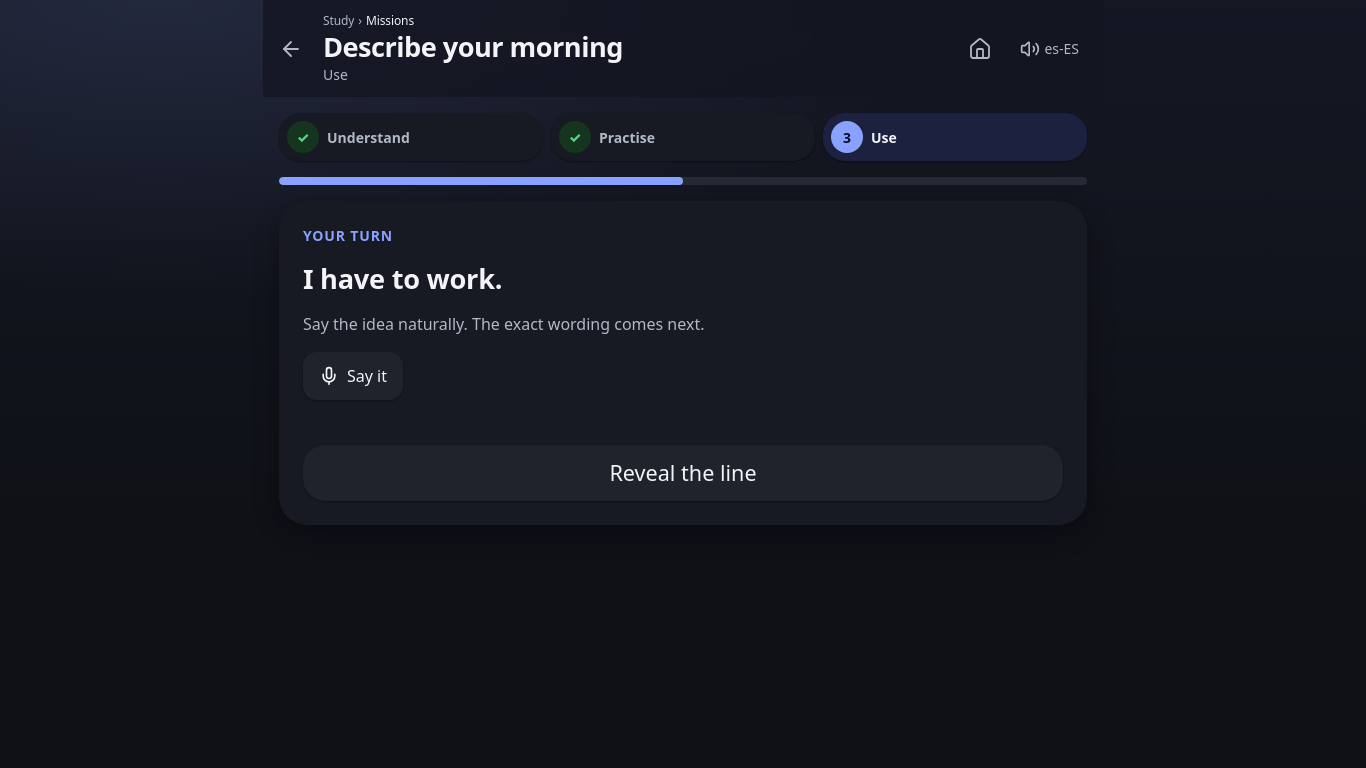
Test case: MissionScreen › turns a matching speech check into a recorded transfer grade
The image size is (1366, 768).
Click the button with aria-label "Check my pronunciation". click: [353, 376]
box: left=303, top=352, right=403, bottom=400
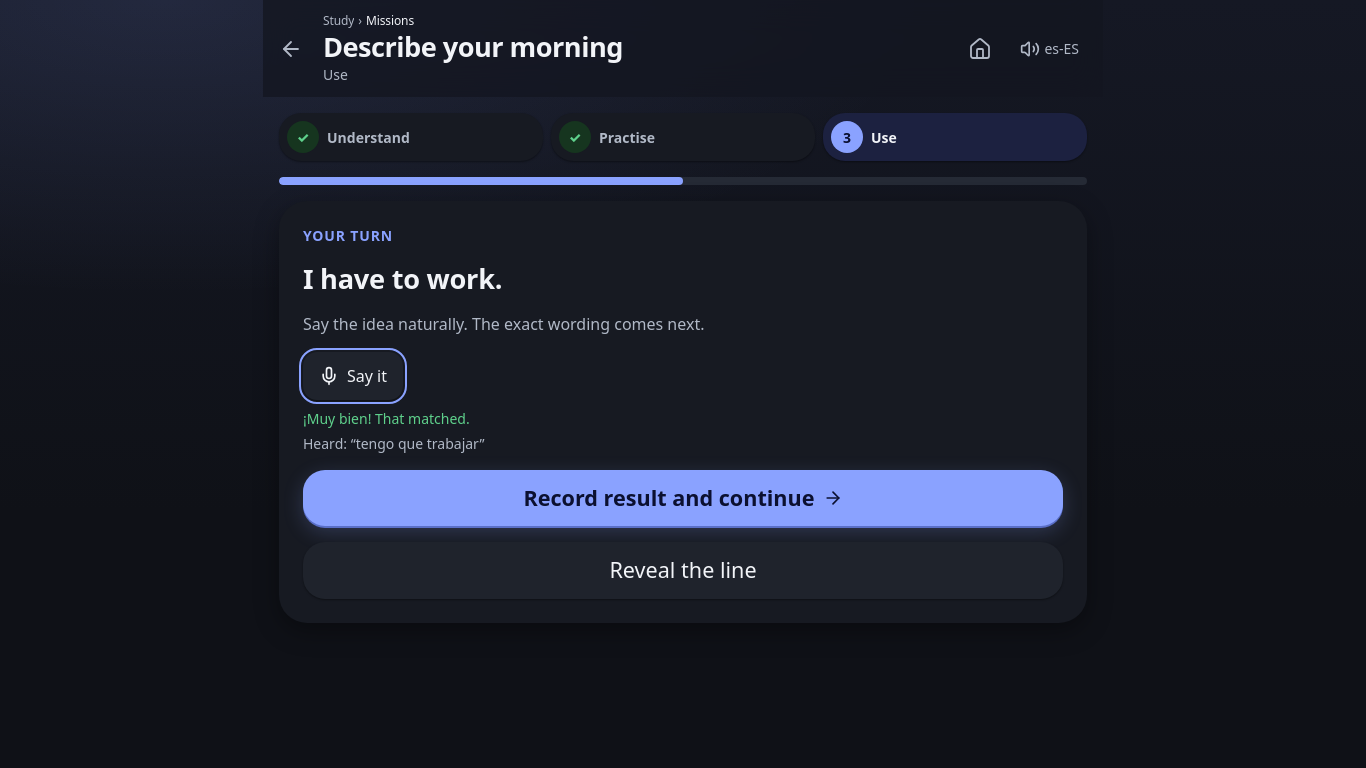
Expected: the text "¡Muy bien! That matched." is shown, left=303, top=409, right=470, bottom=428
Click the button "Record result and continue". click: [683, 498]
box: left=303, top=470, right=1063, bottom=526
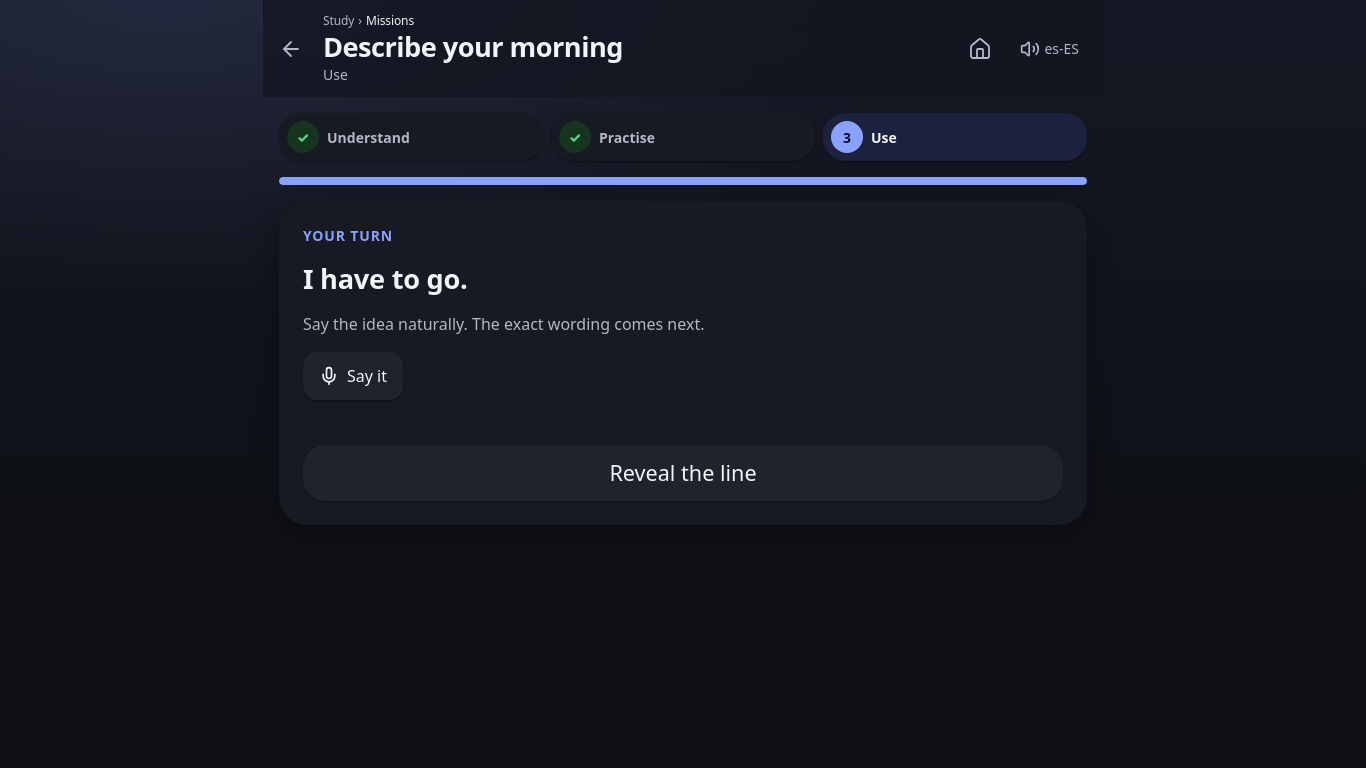
Expected: the heading "I have to go." is shown, left=303, top=260, right=468, bottom=297
